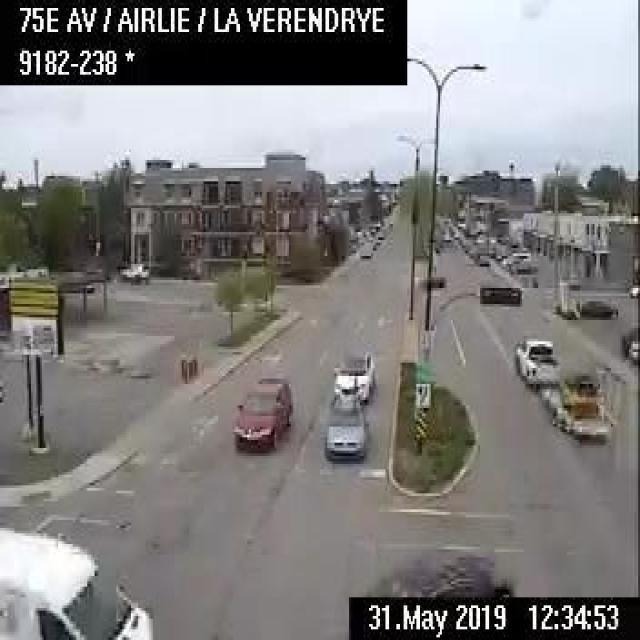construction: (188, 355, 195, 379), (183, 358, 188, 382), (180, 356, 184, 379)
vehicle: (0, 520, 153, 637), (515, 330, 609, 434), (229, 373, 293, 451), (324, 392, 368, 462), (331, 346, 376, 404), (577, 297, 619, 318), (116, 259, 149, 280), (498, 248, 530, 268), (508, 258, 537, 274), (478, 252, 491, 267), (358, 245, 369, 259)
